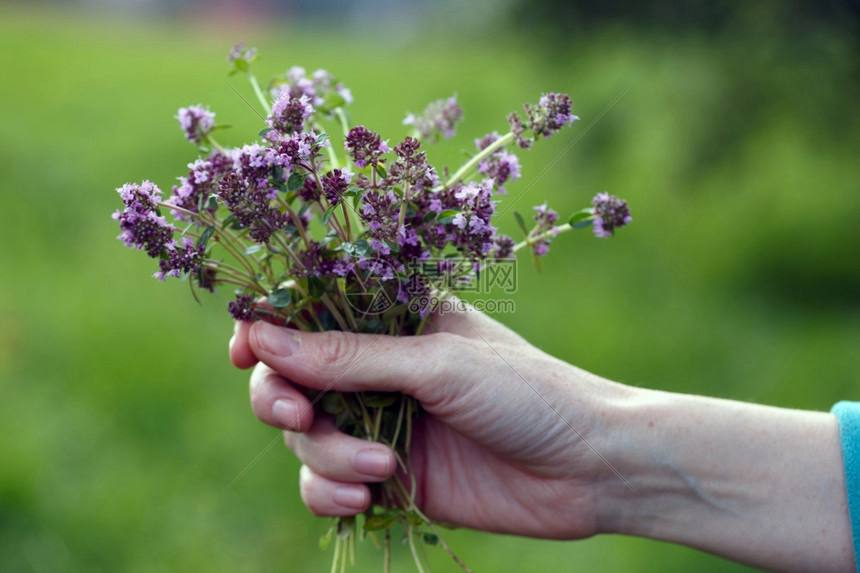no-phone: (223, 184, 645, 551)
